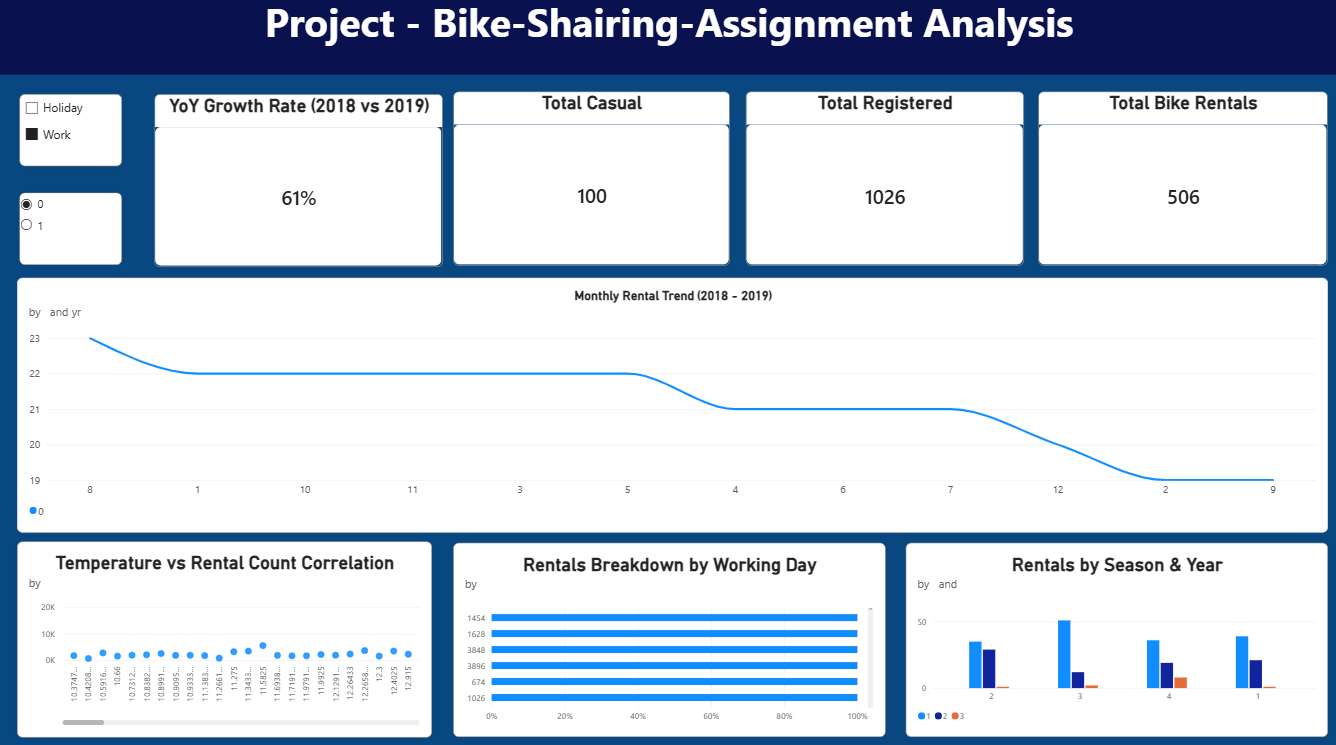

What the dashboard file says about the page in this screenshot:
{"tool":"powerbi","page":{"name":"Page 1","canvas":[1920,1080],"ordinal":0},"visuals":[{"type":"textbox","box":[0,0,1920.4,115.3],"z":0},{"type":"scatterChart","title":"Temperature vs Rental Count Correlation","fields":{"X":["cleaned_bike_data.temp"],"Y":["Sum(cleaned_bike_data.cnt)"]},"box":[28.8,782.2,592.8,279.9],"z":1000},{"type":"cardVisual","title":"Total Casual","fields":{"Data":["Min(cleaned_bike_data.casual)"]},"box":[652.5,140,395,249],"z":2000},{"type":"cardVisual","title":"Total Registered","fields":{"Data":["Min(cleaned_bike_data.registered)"]},"box":[1070.3,140,397.3,249.1],"z":3000},{"type":"clusteredColumnChart","title":"Rentals by Season & Year","fields":{"Category":["cleaned_bike_data.season"],"Y":["CountNonNull(cleaned_bike_data.cnt)"],"Series":["cleaned_bike_data.weathersit"]},"box":[1298.8,784.2,603.1,277.9],"z":4000},{"type":"hundredPercentStackedBarChart","title":"Rentals Breakdown by Working Day","fields":{"Category":["cleaned_bike_data.registered","cleaned_bike_data.casual"],"Y":["CountNonNull(cleaned_bike_data.weekday)"]},"box":[652.5,784.2,617.5,277.9],"z":5000},{"type":"listSlicer","fields":{"Values":["cleaned_bike_data.yr"]},"box":[32.9,284,146.1,102.9],"z":6000},{"type":"cardVisual","title":"Total Bike Rentals","fields":{"Data":["Min(cleaned_bike_data.cnt)"]},"box":[1488.2,140,413.7,249.1],"z":7000},{"type":"slicer","fields":{"Values":["cleaned_bike_data.workingday_name"]},"box":[32.9,142,146.1,102.9],"z":8000},{"type":"cardVisual","title":"YoY Growth Rate (2018 vs 2019)","fields":{"Data":["cleaned_bike_data.YoY Growth"]},"box":[224.4,142,411.7,247],"z":9000},{"type":"lineChart","title":"Monthly Rental Trend (2018 - 2019)","fields":{"Category":["cleaned_bike_data.mnth"],"Y":["CountNonNull(cleaned_bike_data.cnt)"],"Series":["cleaned_bike_data.yr"]},"box":[28.8,405.5,1873.1,364.3],"z":10000}]}

Visuals, with their boxes in screenshot pixels (x1, y1, x2, y2), scaled from the page's 1920x1080 canvas onto the 1336x745 screenshot:
textbox: x1=0, y1=0, x2=1335, y2=80
"Temperature vs Rental Count Correlation" scatterChart: x1=20, y1=540, x2=433, y2=733
"Total Casual" cardVisual: x1=454, y1=97, x2=729, y2=268
"Total Registered" cardVisual: x1=745, y1=97, x2=1021, y2=268
"Rentals by Season & Year" clusteredColumnChart: x1=904, y1=541, x2=1323, y2=733
"Rentals Breakdown by Working Day" hundredPercentStackedBarChart: x1=454, y1=541, x2=884, y2=733
listSlicer - cleaned_bike_data.yr: x1=23, y1=196, x2=125, y2=267
"Total Bike Rentals" cardVisual: x1=1036, y1=97, x2=1323, y2=268
slicer - cleaned_bike_data.workingday_name: x1=23, y1=98, x2=125, y2=169
"YoY Growth Rate (2018 vs 2019)" cardVisual: x1=156, y1=98, x2=443, y2=268
"Monthly Rental Trend (2018 - 2019)" lineChart: x1=20, y1=280, x2=1323, y2=531
